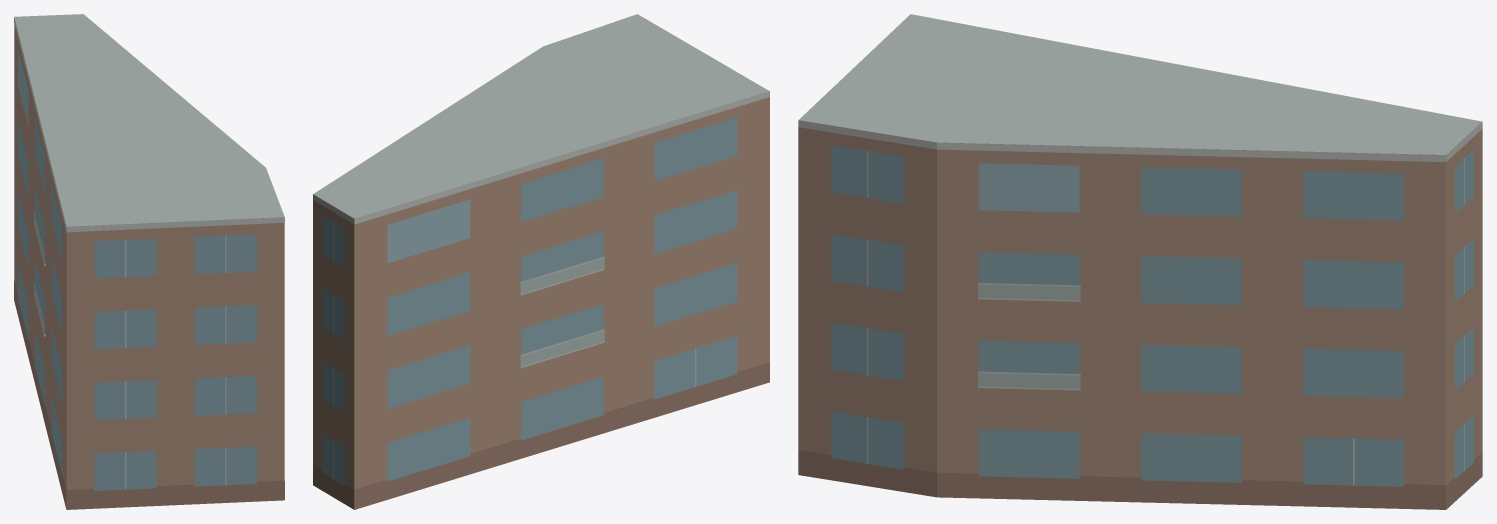
Rendered from residential-4c25bfc1-557a-446e-bbf1-eab5ed454193.glb.
3 renders of one model, left to right at view 1: azimuth 30°, elevation 25°; view 2: azimuth 150°, elevation 25°; view 3: azimuth 270°, elevation 25°, orthographic. The views are drawn at different scales.
Visible parts, largest first — view 1: residential-4c25bfc1-557a-446e-bbf1-eab5ed454193.tmp; view 2: residential-4c25bfc1-557a-446e-bbf1-eab5ed454193.tmp; view 3: residential-4c25bfc1-557a-446e-bbf1-eab5ed454193.tmp.
Boxes of the visible parts, <box> form: residential-4c25bfc1-557a-446e-bbf1-eab5ed454193.tmp: <box>14,14,284,509</box>; residential-4c25bfc1-557a-446e-bbf1-eab5ed454193.tmp: <box>313,14,769,509</box>; residential-4c25bfc1-557a-446e-bbf1-eab5ed454193.tmp: <box>798,14,1482,509</box>.
Bounding box in the file's own units: 10.41 × 12.2 × 21.33.
